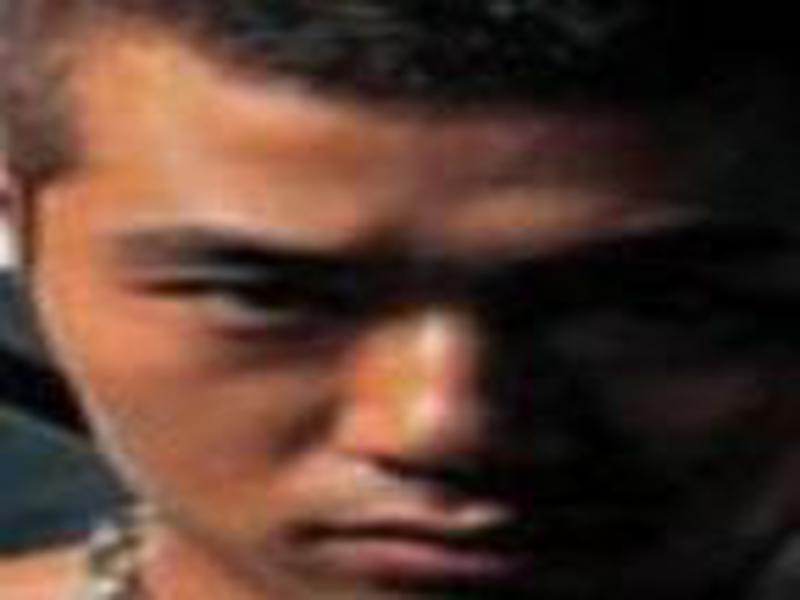without_mask: (34, 51, 800, 600)
